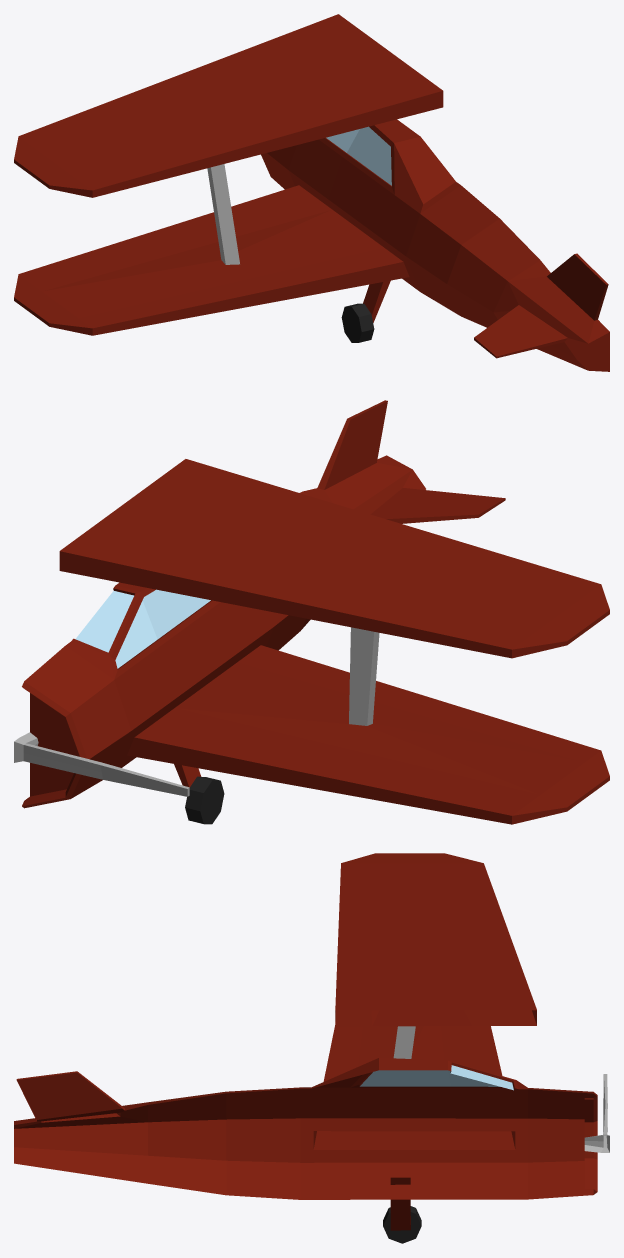
3 views of the same model, one above another, from view 1: azimuth 30°, elevation 25°; view 2: azimuth 150°, elevation 25°; view 3: azimuth 270°, elevation 25° (orthographic). The views are drawn at different scales.
Visible parts, largest first — view 1: Cube; view 2: Cube; view 3: Cube.
Boxes of the visible parts, x1=… form: Cube: x1=14, y1=14, x2=609, y2=371; Cube: x1=14, y1=400, x2=609, y2=824; Cube: x1=14, y1=853, x2=609, y2=1243.
Size of the model in its own units: 6.76 by 4.57 by 9.71.
1 material, 1 textured.
